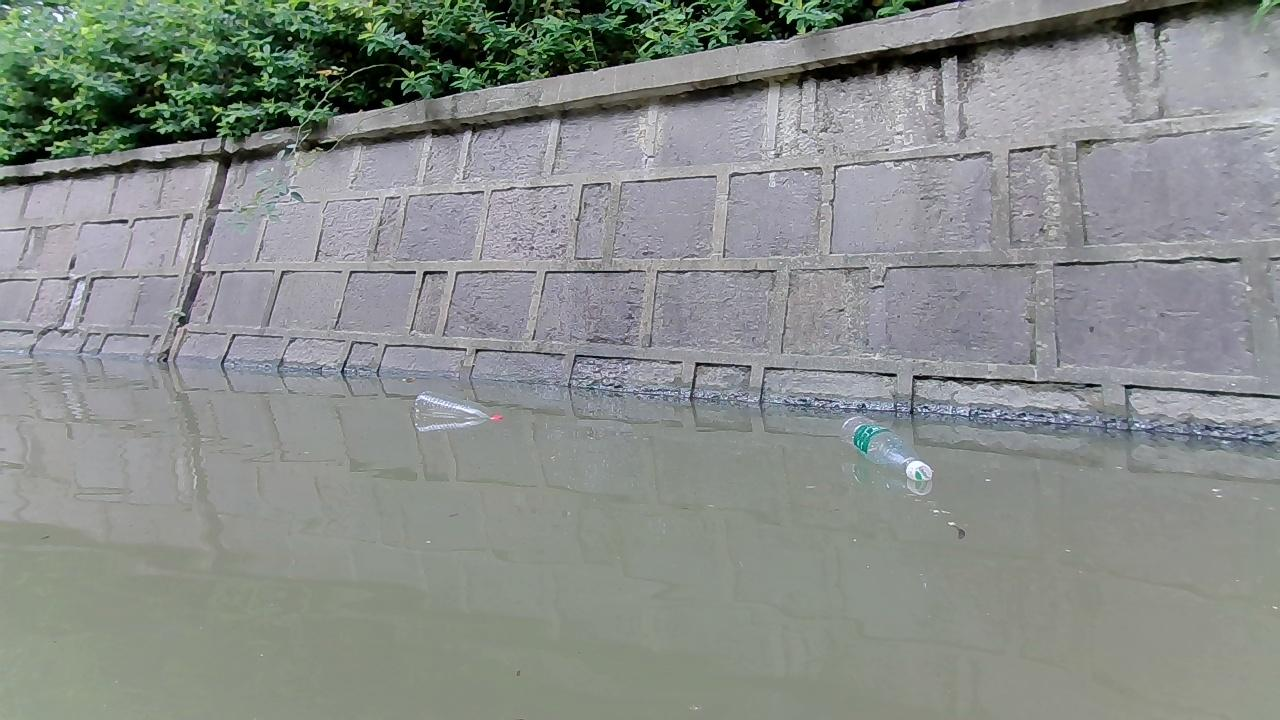bottle: (840, 416, 932, 479), (413, 390, 502, 420)
